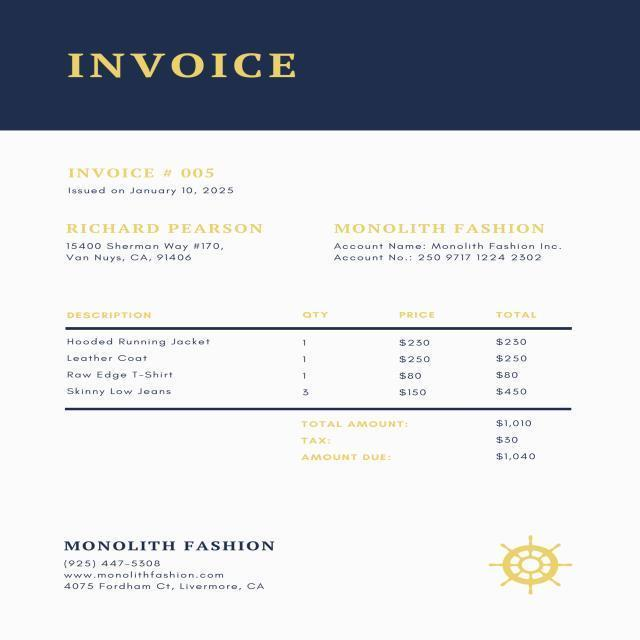paragraph: (56, 532, 283, 602), (328, 216, 565, 279), (289, 413, 546, 471), (59, 215, 271, 276), (65, 45, 298, 88), (58, 159, 249, 201)
table: (53, 292, 588, 413)
